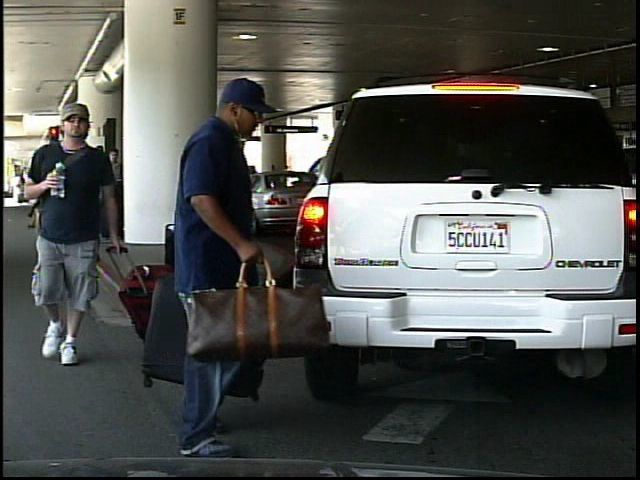person: (160, 74, 297, 458), (27, 102, 119, 369), (164, 130, 229, 273)
